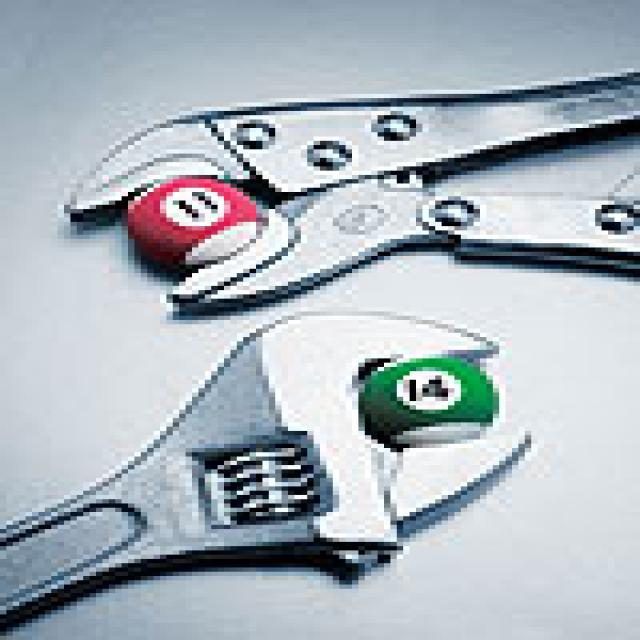wrench: (0, 282, 544, 636)
